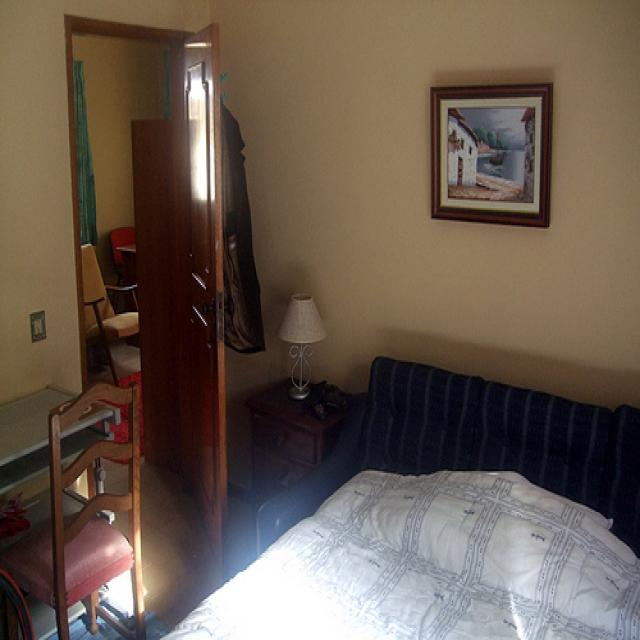chair: (1, 383, 144, 631), (82, 243, 138, 384), (110, 227, 135, 288)
dining table: (0, 381, 120, 510)
